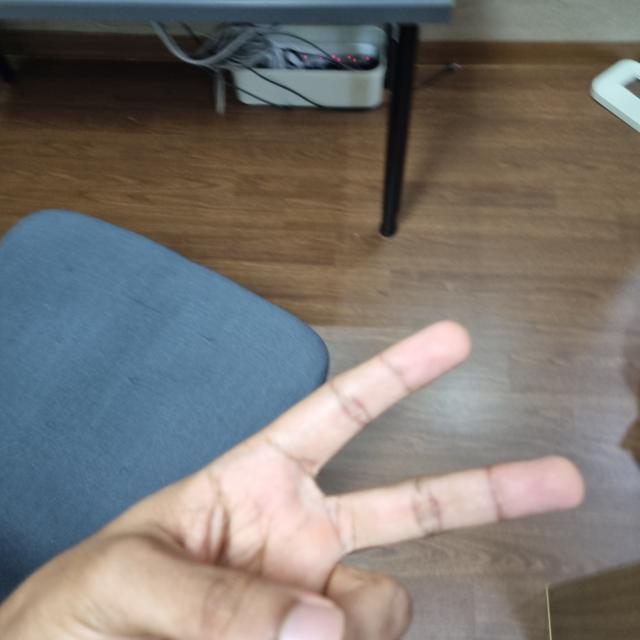Scissors: (0, 326, 588, 639)
